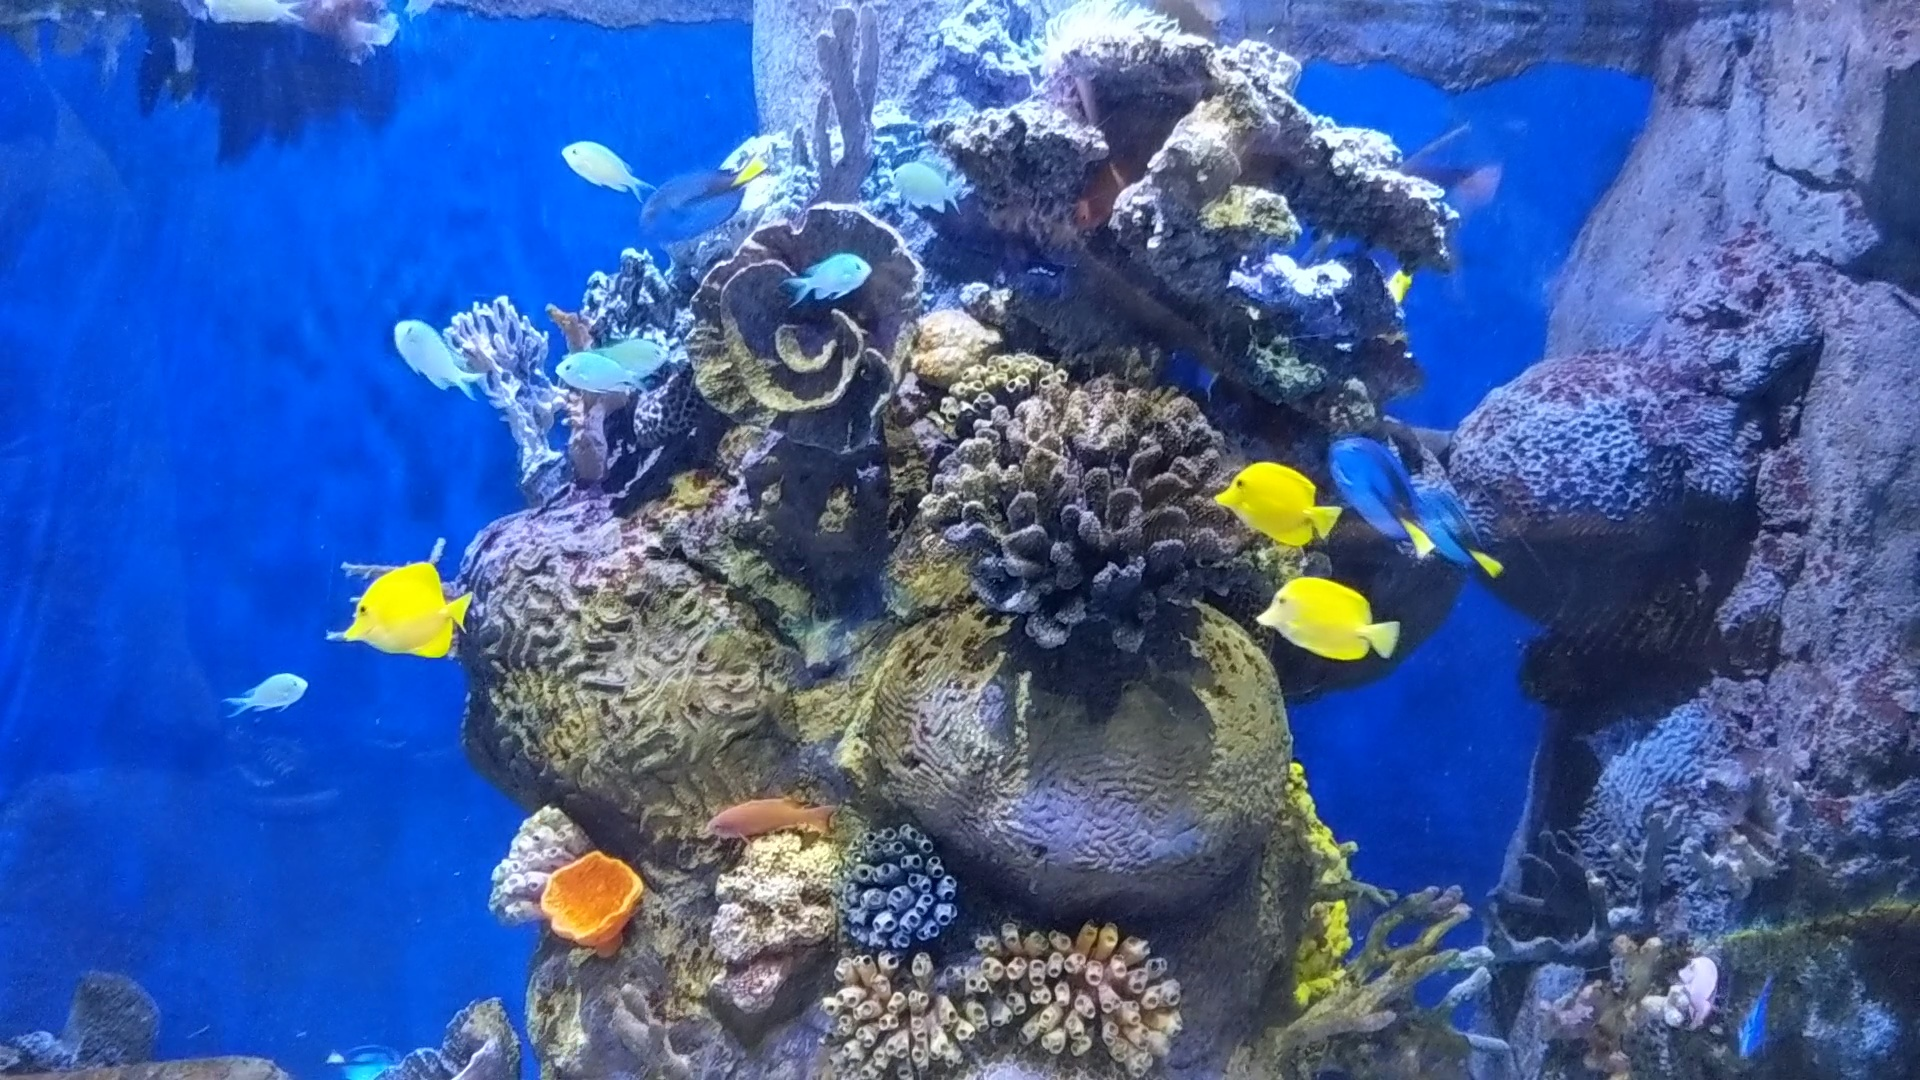blue tang surgeonfish: (1332, 425, 1437, 556), (622, 152, 765, 239), (1410, 480, 1498, 588), (1742, 967, 1778, 1051), (322, 1043, 406, 1079)
damselfish: (380, 313, 492, 410), (556, 138, 654, 207), (546, 352, 646, 410), (769, 251, 866, 309), (881, 157, 967, 222), (222, 666, 309, 720)
pink fish: (682, 781, 827, 851)
saddle butterfly fish: (324, 553, 476, 665), (1244, 568, 1400, 662), (1211, 456, 1342, 550)
